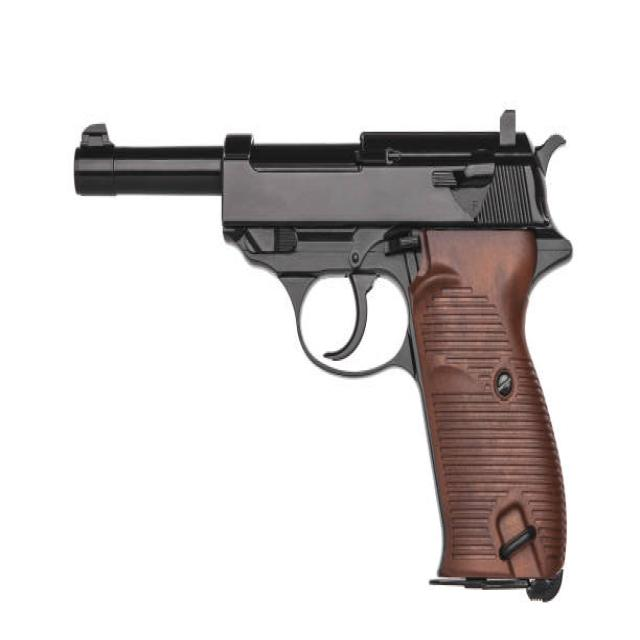pistol: (65, 104, 581, 611)
